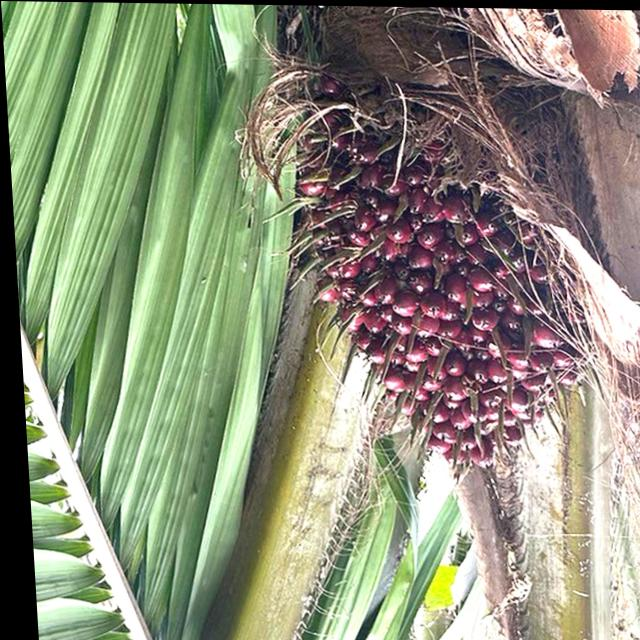ripe: (253, 46, 622, 511)
